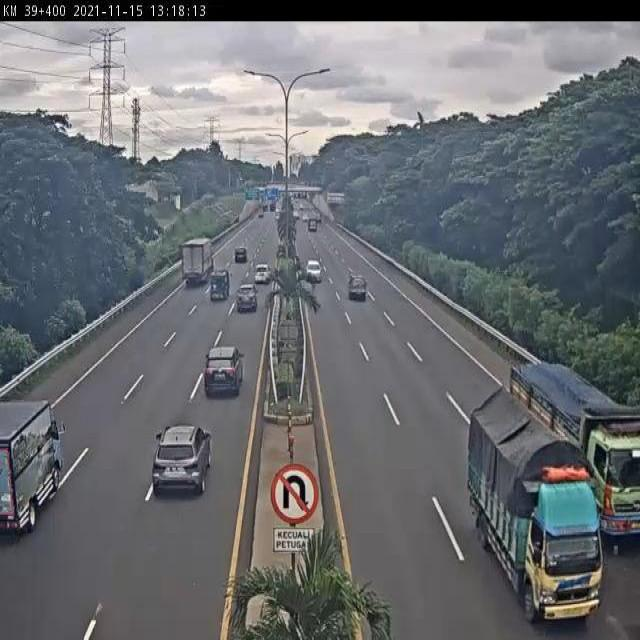car: (151, 422, 214, 498), (203, 343, 244, 396), (236, 283, 257, 312)
truck-l-: (512, 362, 640, 542)
truck-m-: (468, 380, 606, 633), (208, 268, 230, 301)
truck-s-: (0, 399, 62, 532), (348, 272, 369, 300)
